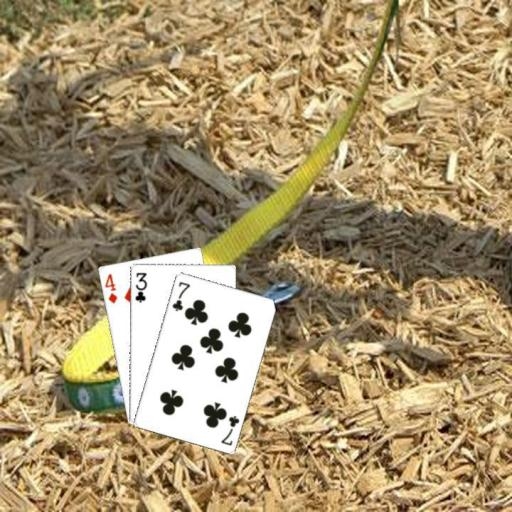3C: (131, 270, 148, 304)
4D: (102, 271, 119, 305)
7C: (218, 413, 241, 447), (170, 278, 192, 312)
